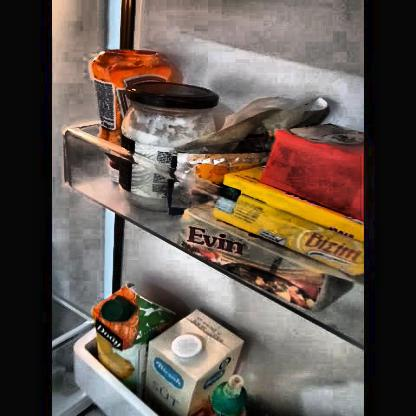butter: (192, 174, 360, 291)
milk: (146, 311, 224, 412)
